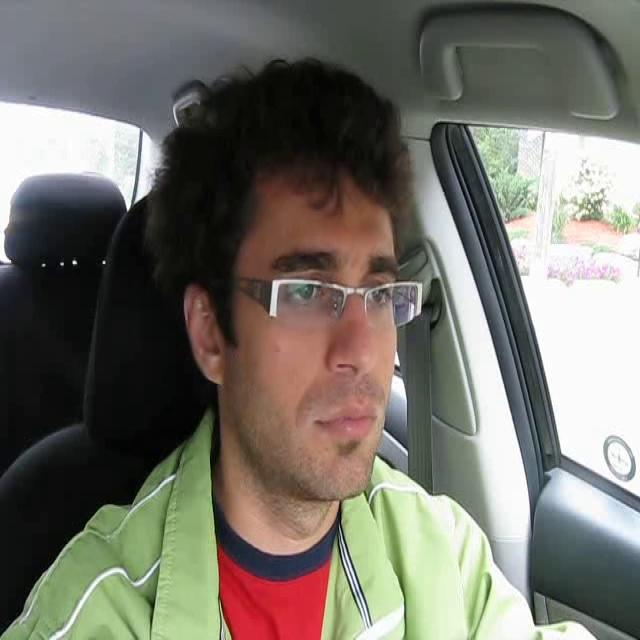close: (318, 392, 387, 443)
